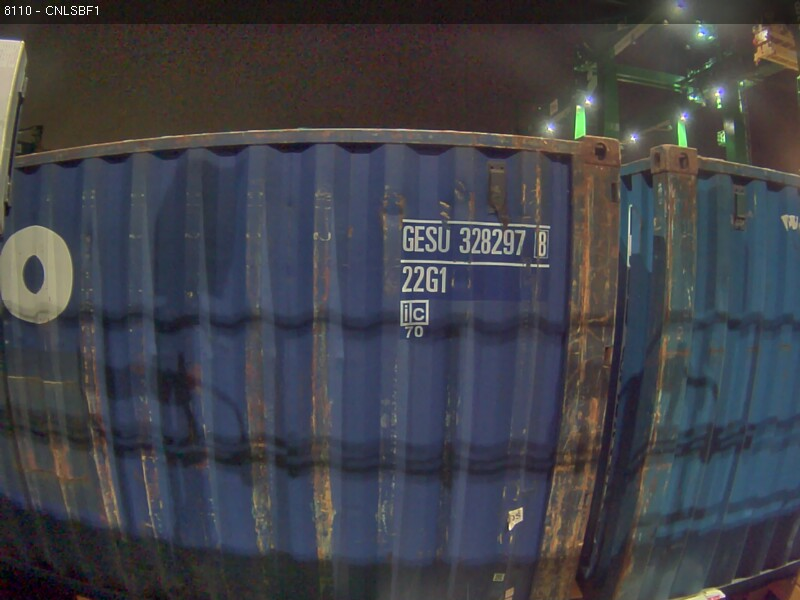container_no_door: (209, 122, 628, 523)
